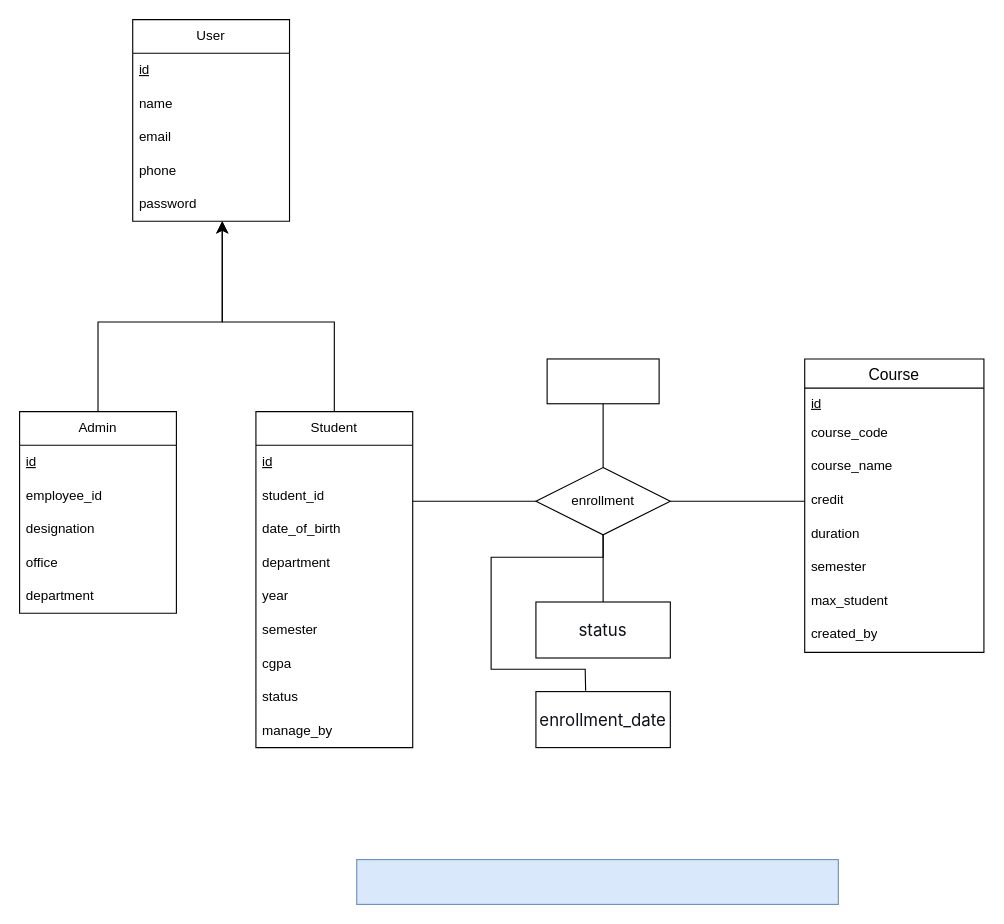
Image size: 1004x924. Some labels were removed from this diagram. Each missing label, with the centre of its shape:
grade: the point at 602,381
Student Management System: the point at 597,881
